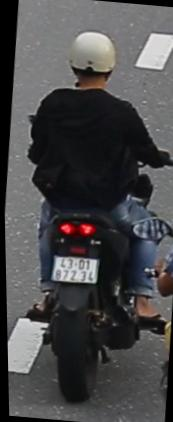LP: (45, 248, 102, 290)
helmet: (56, 25, 123, 109)
